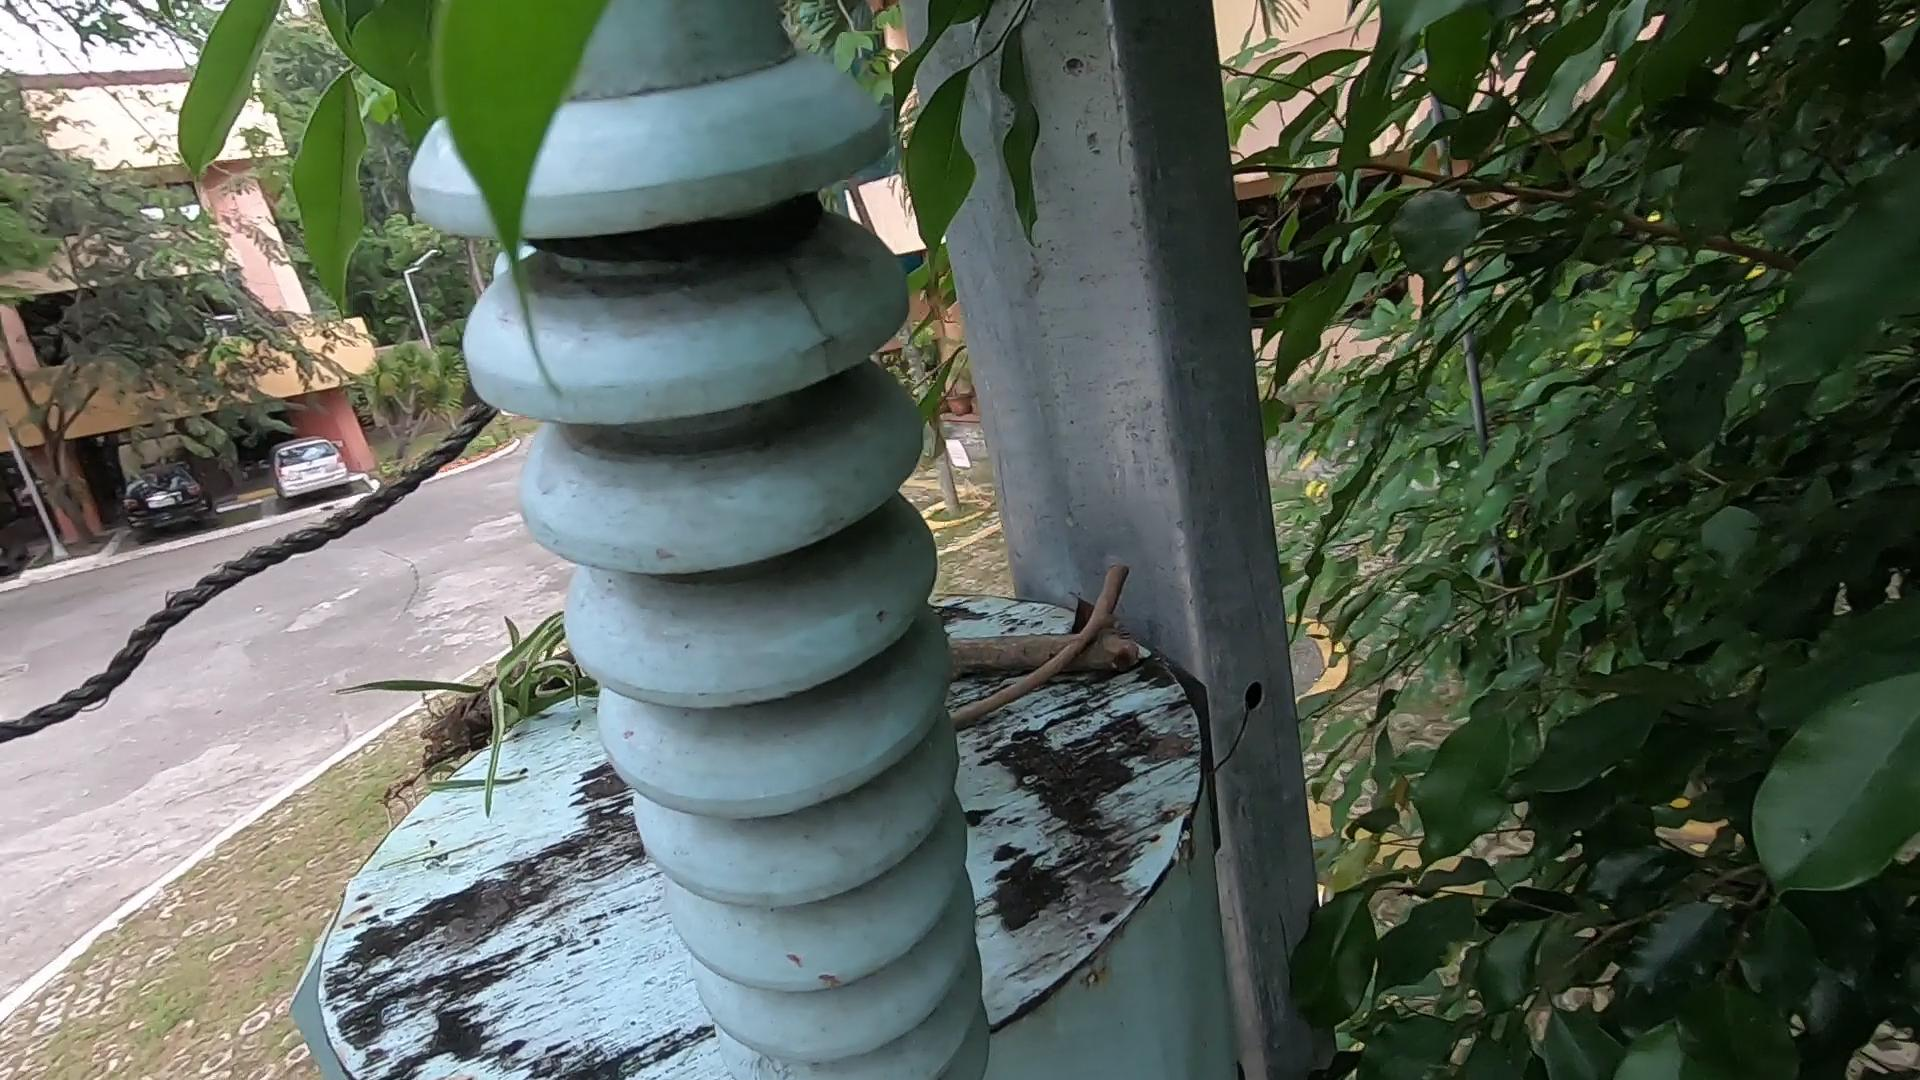branch with leaves: (419, 531, 1176, 760)
tree branch: (972, 517, 1160, 774)
